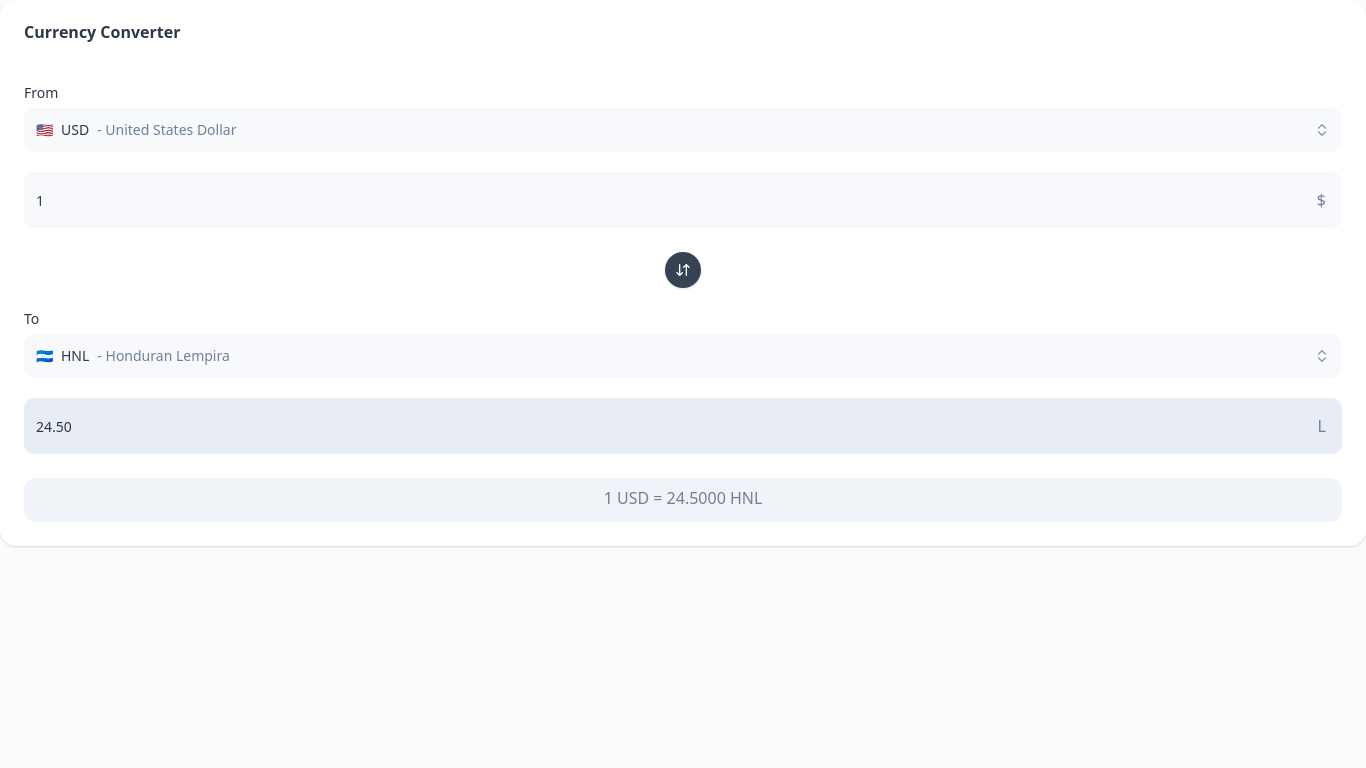
Test: CurrencyConverter Component › Currency Swap › should swap currencies when swap button is clicked
Expected: the dropdown with test id "exchange-from-button" shows "USD", [24, 108, 1342, 152]
Expected: the dropdown with test id "exchange-to-button" shows "HNL", [24, 334, 1342, 378]
Click the button with test id "swap-exchange-button". click: point(683, 270)
box: [665, 252, 701, 288]
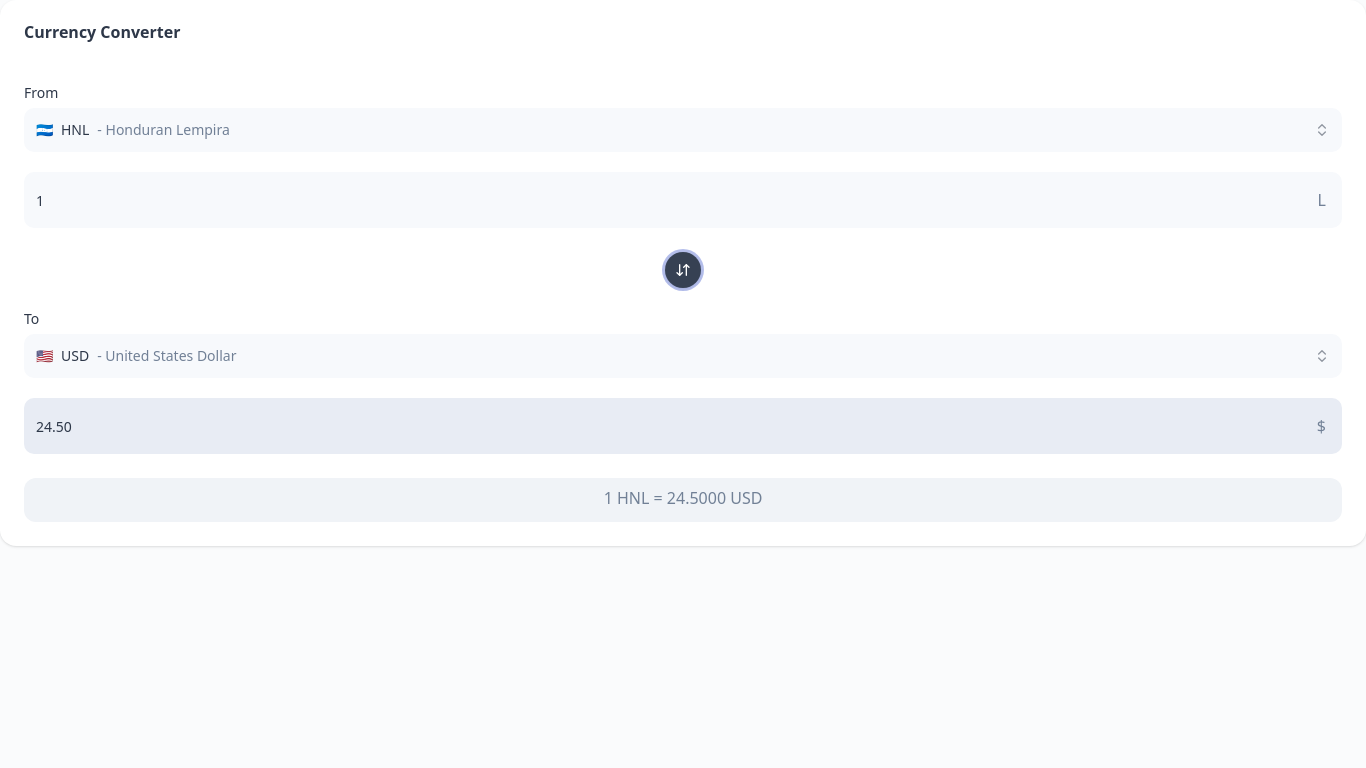
Now the dropdown with test id "exchange-from-button" shows "HNL", box [24, 108, 1342, 152]
Now the dropdown with test id "exchange-to-button" shows "USD", box [24, 334, 1342, 378]
